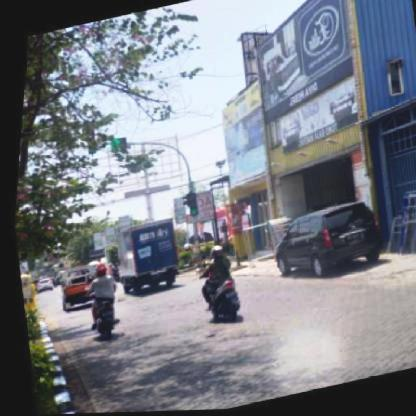Traffic Light -Green-: (182, 195, 196, 219)
